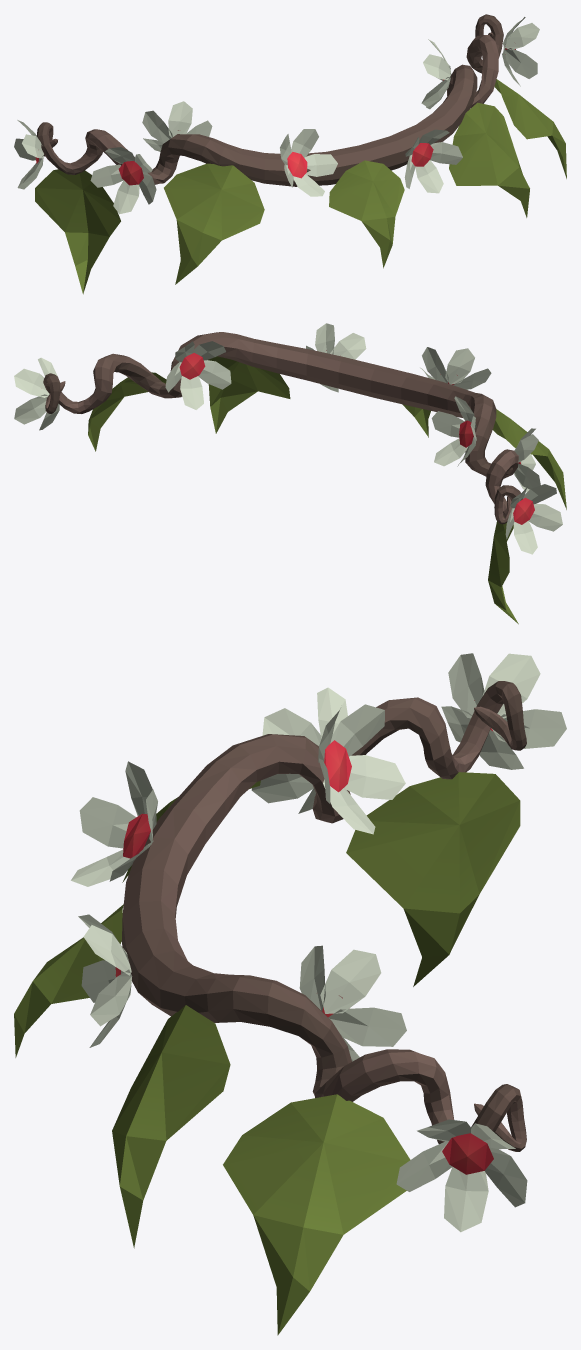
File: smallCrossbowIvyTip.glb
The picture shows the model from 3 angles, top to bottom: view 1: azimuth 30°, elevation 25°; view 2: azimuth 150°, elevation 25°; view 3: azimuth 270°, elevation 25°; orthographic projection. The views are drawn at different scales.
Visible parts, largest first — view 1: smallCrossbowIvyTip; view 2: smallCrossbowIvyTip; view 3: smallCrossbowIvyTip.
Part boxes in pixels (x1,y1,x2,y2): smallCrossbowIvyTip: [14, 14, 566, 294]; smallCrossbowIvyTip: [14, 323, 566, 624]; smallCrossbowIvyTip: [14, 653, 566, 1335].
Size of the model in its own units: 0.4597 by 0.1594 by 0.227.
